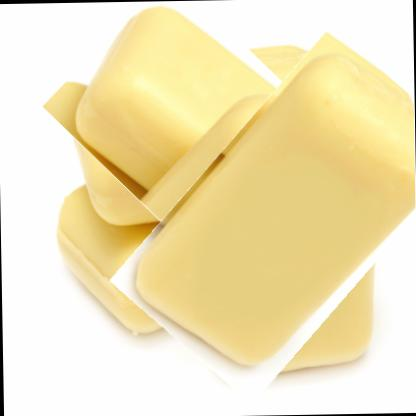soap: (149, 34, 415, 397), (52, 6, 359, 266)
